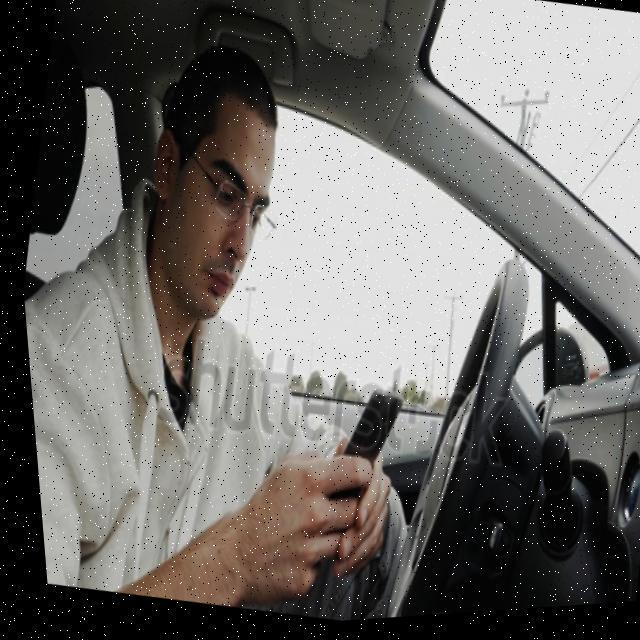PhoneCall: (322, 386, 401, 498)
